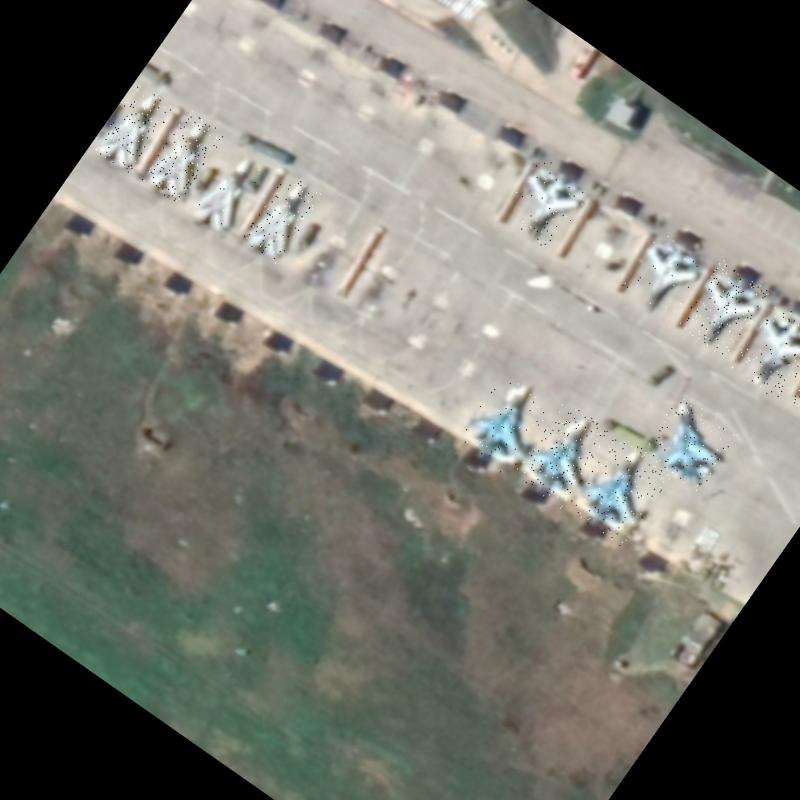A1: (676, 259, 770, 358), (498, 156, 592, 252), (618, 228, 710, 322)
A19: (564, 432, 674, 548), (453, 365, 562, 480), (512, 400, 614, 510), (639, 392, 741, 494), (728, 300, 800, 403)
A20: (140, 110, 226, 205), (92, 82, 176, 175), (240, 172, 324, 264), (186, 146, 269, 238)
